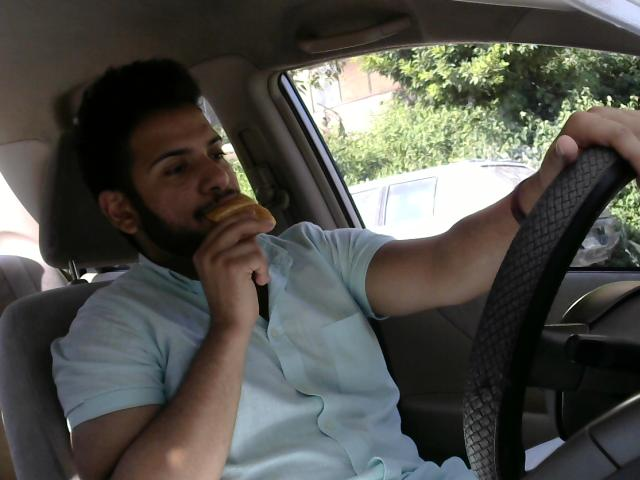Eating: (207, 188, 280, 247)
